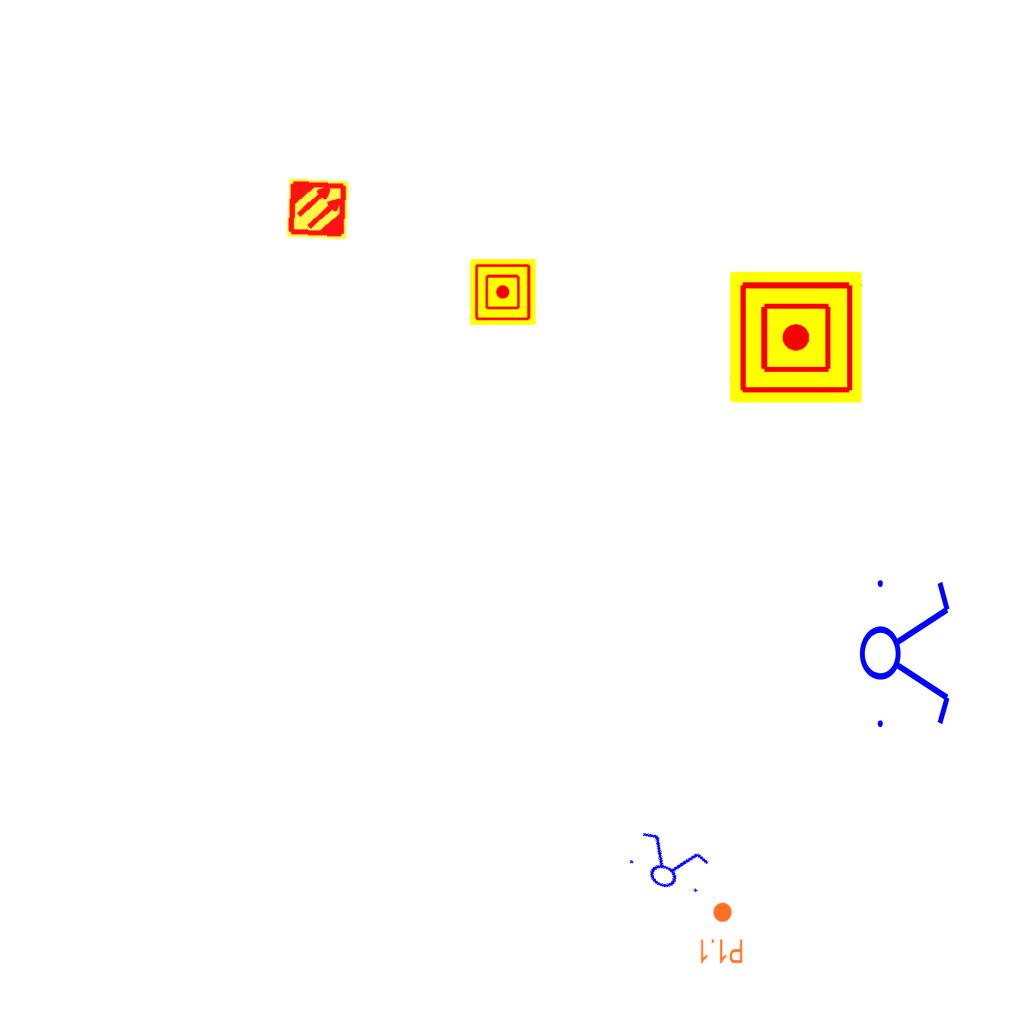ASR_Ansaugrauchmelder: (285, 176, 351, 242)
Downlight_LED_Einbauleuchten_Flur_2: (698, 901, 744, 965)
NAM-Nichtautomatischer_Melder: (730, 271, 862, 403), (470, 259, 536, 325)
Serienschalter: (858, 568, 954, 736), (619, 824, 717, 904)
